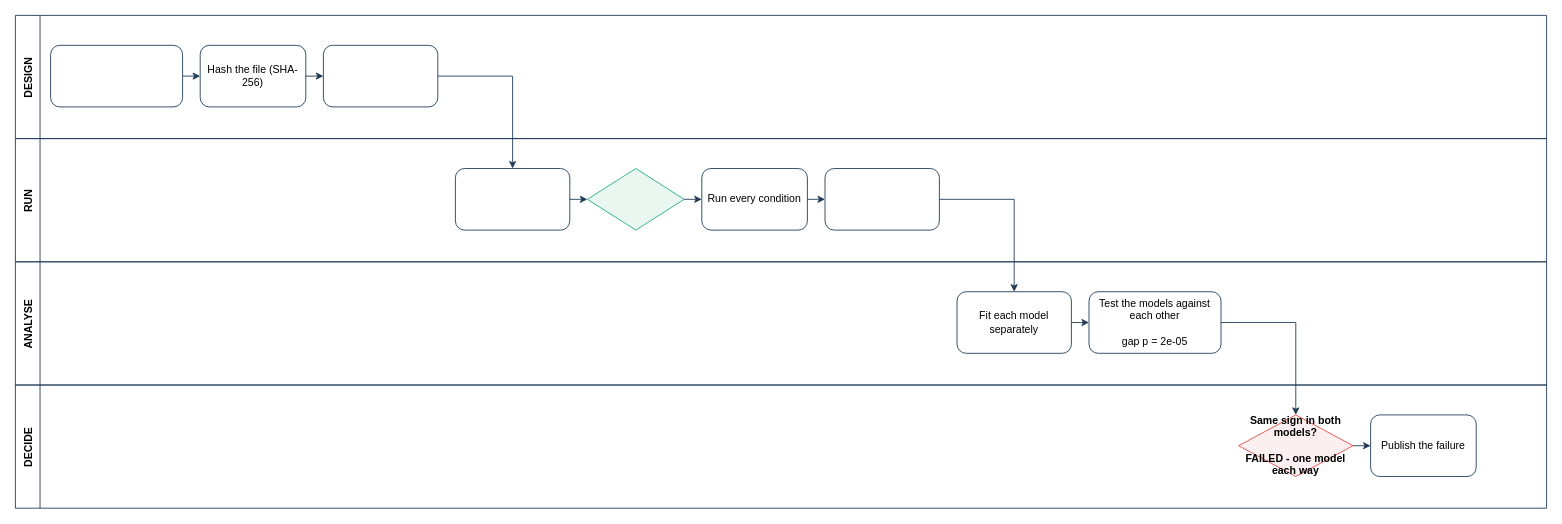
Some shapes in this 1562 by 524 pixel diagram are drawn without their labels. The shapes that lost their labels are listed below. From the top down, each one's centre as x and y in pixels, then its label:
(116,75): Write hypotheses and decision rule
(380,75): Build stimuli from the corpus
(512,199): Calibrate on dominance tasks
(635,199): 95% correct? passed: llama 97.5%, qwen 96.2%
(881,199): Parse answers, count failures 0 unparseable of 1960
